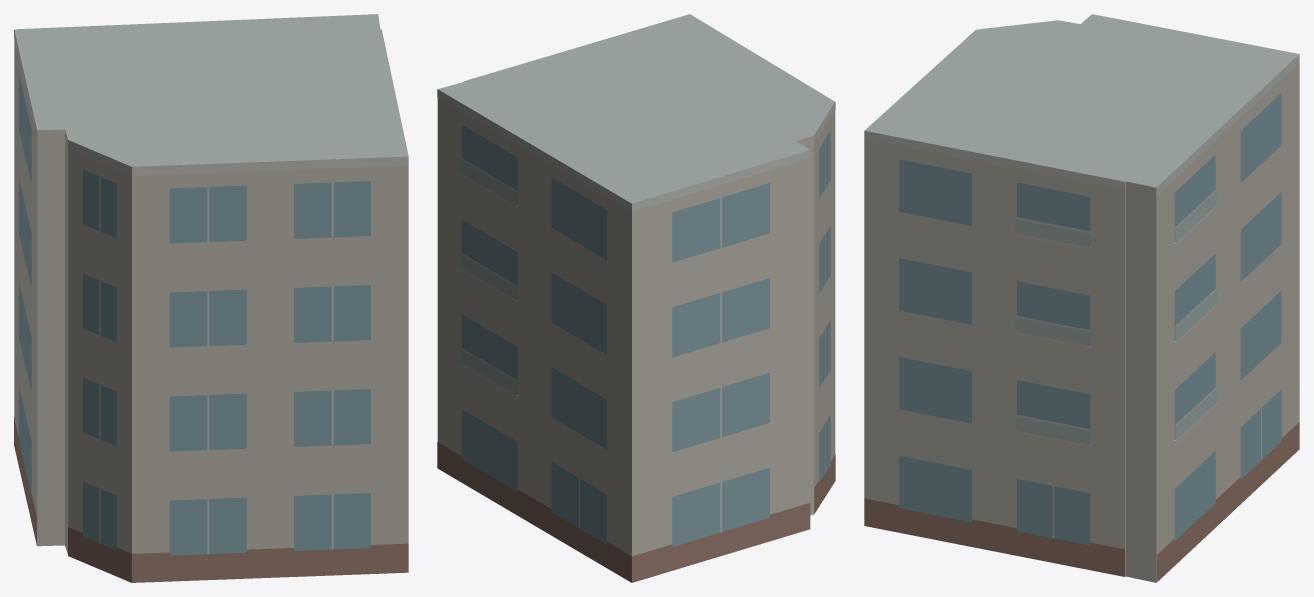
File: survey-upis-32671472.glb
The picture shows the model from 3 angles, left to right: view 1: azimuth 30°, elevation 25°; view 2: azimuth 150°, elevation 25°; view 3: azimuth 270°, elevation 25°; orthographic projection. The views are drawn at different scales.
Parts seen in each view (by area): view 1: survey-upis-32671472.tmp; view 2: survey-upis-32671472.tmp; view 3: survey-upis-32671472.tmp.
Part boxes in pixels (x1,y1,x2,y2): survey-upis-32671472.tmp: [14, 14, 408, 582]; survey-upis-32671472.tmp: [437, 14, 835, 582]; survey-upis-32671472.tmp: [864, 14, 1299, 582].
Bounding box in the file's own units: 10.71 × 11.35 × 11.34.
